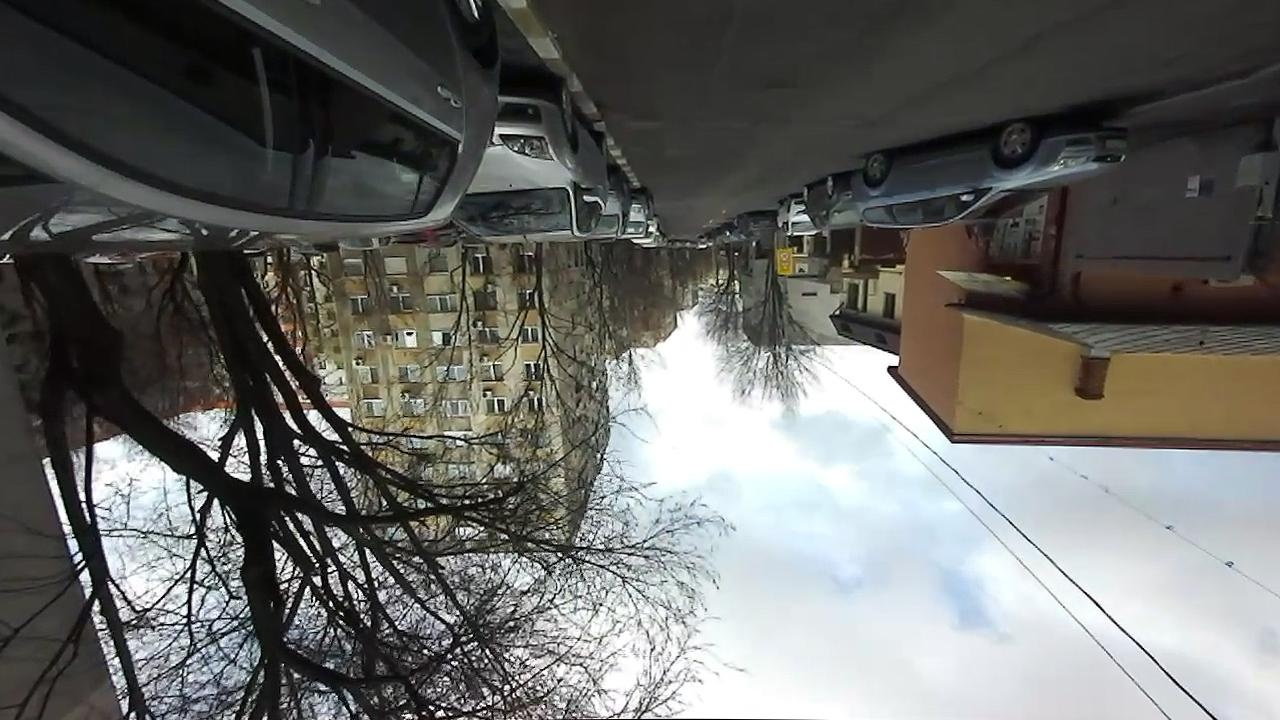pothole: (759, 72, 804, 98)
